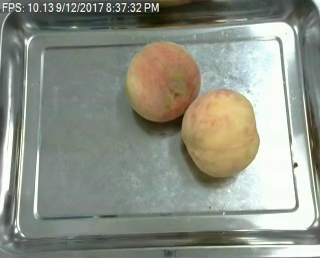Peach: (181, 89, 259, 176), (124, 40, 201, 122)
